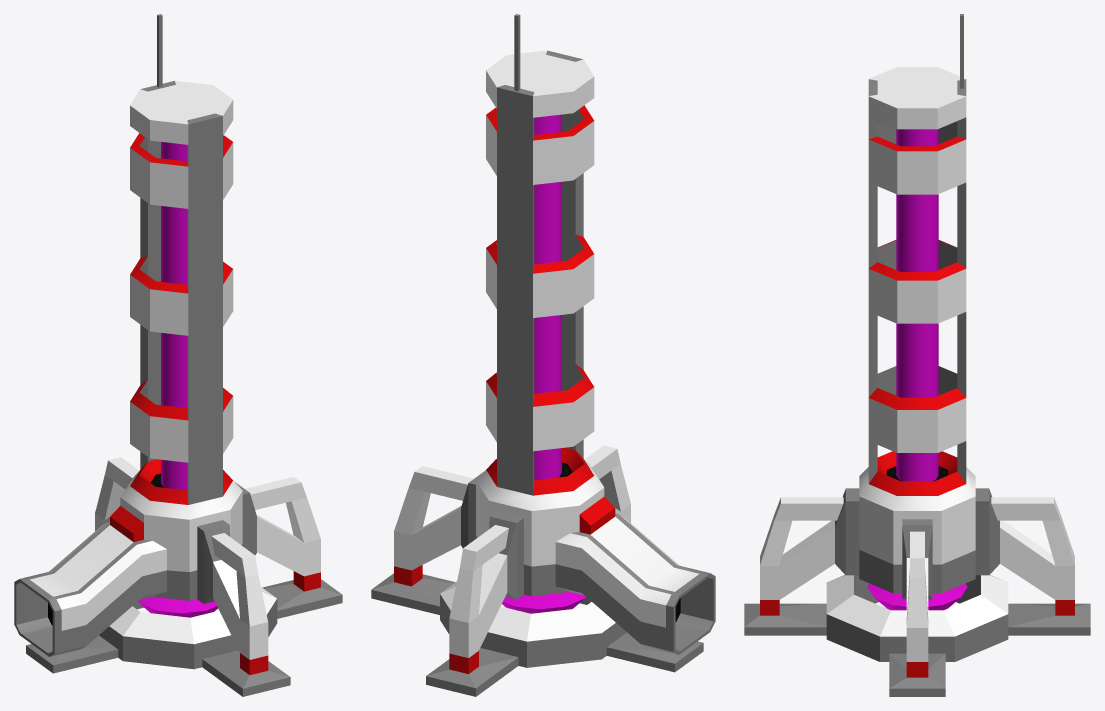
The model's file is Drill_T1.fbx.
3 views of the same model, side by side, from view 1: azimuth 30°, elevation 25°; view 2: azimuth 150°, elevation 25°; view 3: azimuth 270°, elevation 25° (orthographic). The views are drawn at different scales.
Parts seen in each view (by area): view 1: Base, paw.003, paw.002, Hole, DrillCone, paw.001; view 2: Base, paw.001, paw.002, Hole, DrillCone, paw.003; view 3: Base, paw.001, paw.003, Hole, DrillCone, paw.002.
Part boxes in pixels (x1,y1,x2,y2): Base: (14, 14, 242, 673); paw.003: (197, 520, 290, 696); paw.002: (235, 477, 342, 618); Hole: (99, 587, 277, 669); DrillCone: (138, 142, 217, 617); paw.001: (95, 457, 139, 530); Base: (476, 14, 715, 672); paw.001: (426, 511, 523, 696); paw.002: (371, 466, 483, 614); Hole: (440, 581, 626, 667); DrillCone: (502, 114, 585, 613); paw.003: (584, 445, 630, 522); Base: (859, 14, 975, 593); paw.001: (975, 488, 1090, 635); paw.003: (744, 488, 859, 635); Hole: (826, 575, 1008, 661); DrillCone: (867, 129, 967, 610); paw.002: (889, 519, 945, 696).
Bounding box in the file's own units: 10.59 × 10.59 × 20.9.
